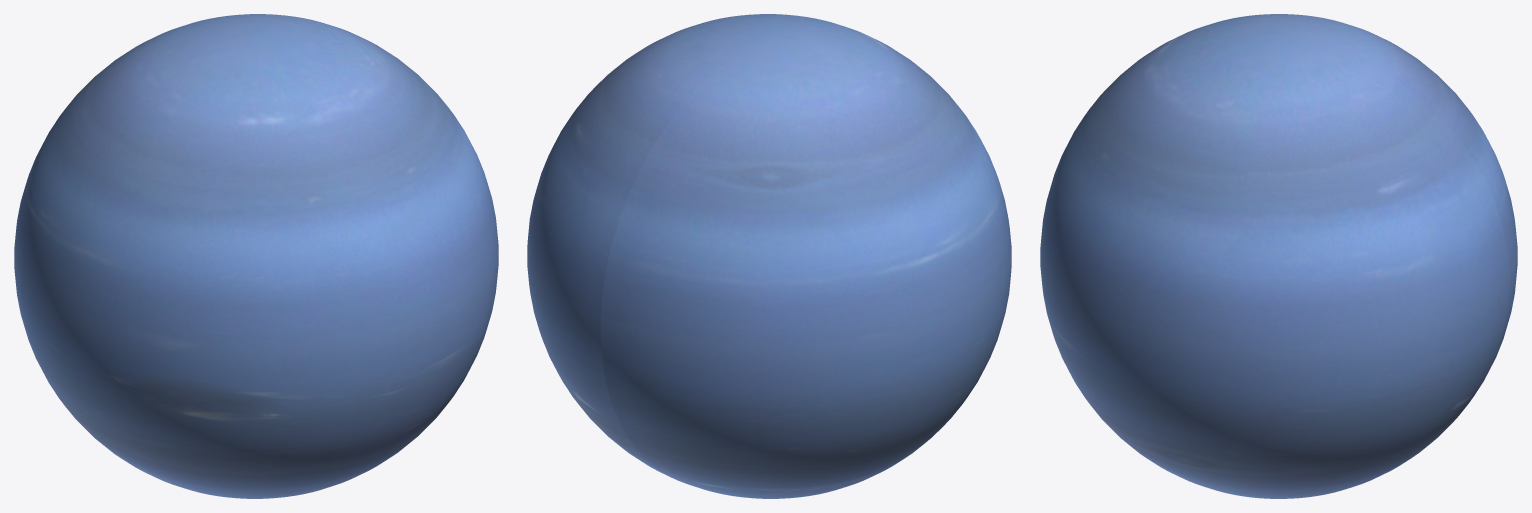
File: neptune.glb
3 renders of one model, left to right at view 1: azimuth 30°, elevation 25°; view 2: azimuth 150°, elevation 25°; view 3: azimuth 270°, elevation 25°, orthographic.
Visible parts, largest first — view 1: neptune; view 2: neptune; view 3: neptune.
Boxes of the visible parts, x1,y1,x2,y2 form: neptune: [14, 14, 498, 498]; neptune: [527, 14, 1011, 498]; neptune: [1040, 14, 1517, 498].
Size of the model in its own units: 49.53 by 49.53 by 48.68.
Materials: 1 (1 with a texture image).
